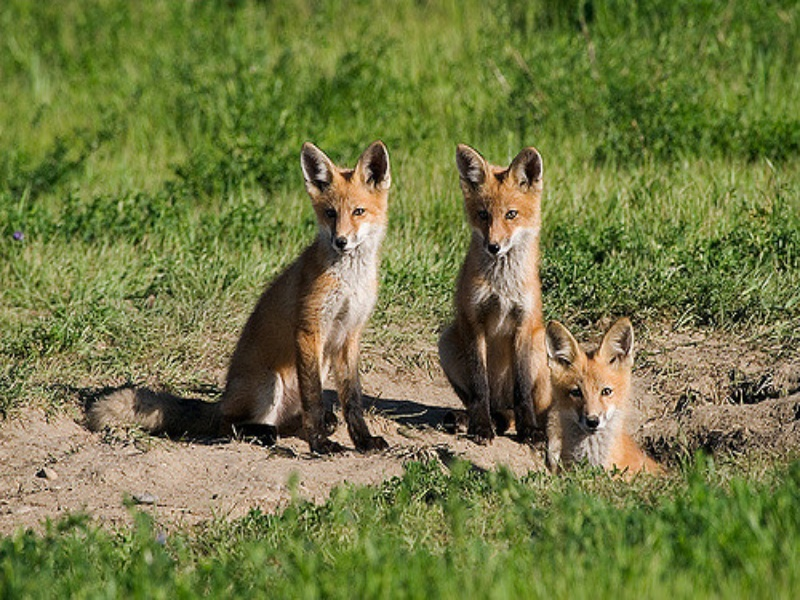fox: (86, 116, 393, 457), (432, 133, 566, 450), (539, 314, 674, 492)
